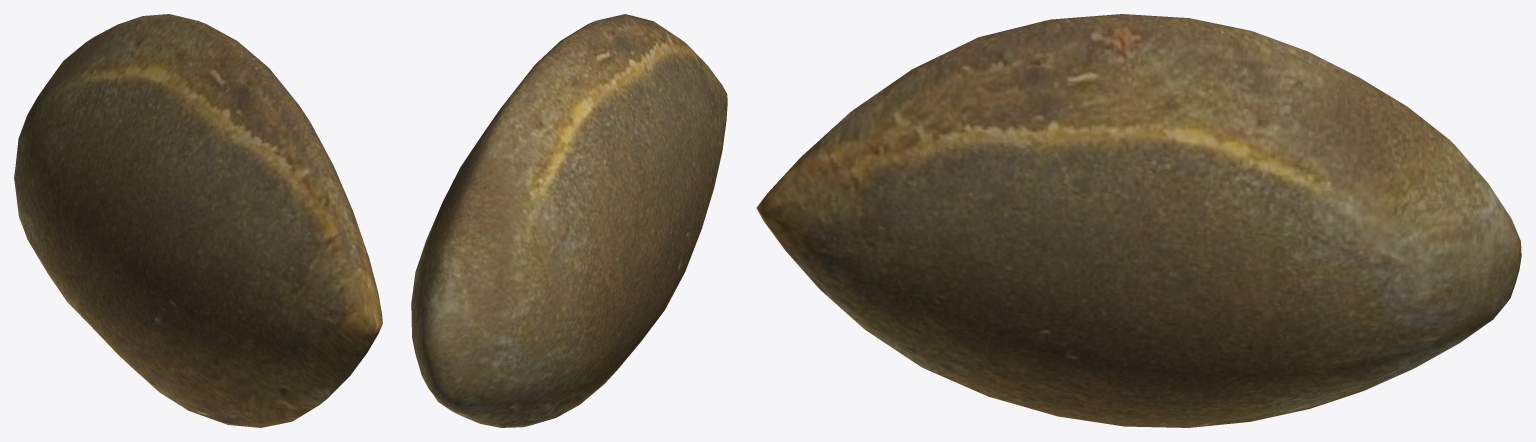
The model's file is YellowPeachSeed.obj.
The picture shows the model from 3 angles, left to right: view 1: azimuth 30°, elevation 25°; view 2: azimuth 150°, elevation 25°; view 3: azimuth 270°, elevation 25°; orthographic projection. The views are drawn at different scales.
Visible parts, largest first — view 1: YellowPeachSeed; view 2: YellowPeachSeed; view 3: YellowPeachSeed.
Boxes of the visible parts, bbox=[...] form: YellowPeachSeed: bbox=[14, 14, 382, 427]; YellowPeachSeed: bbox=[411, 14, 727, 427]; YellowPeachSeed: bbox=[756, 14, 1521, 427].
Bounding box in the file's own units: 0.0187 × 0.037 × 0.0597.
1 material, 1 textured.
